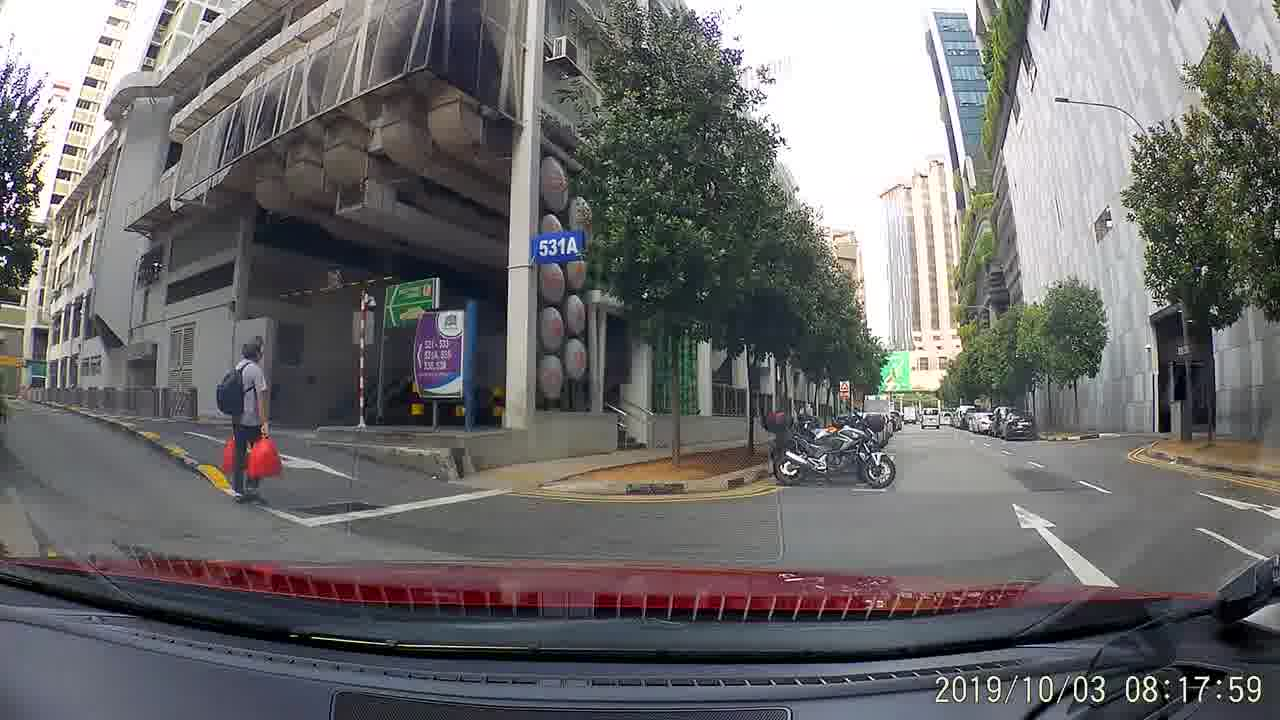car: (1005, 416, 1036, 445), (965, 412, 997, 438)
